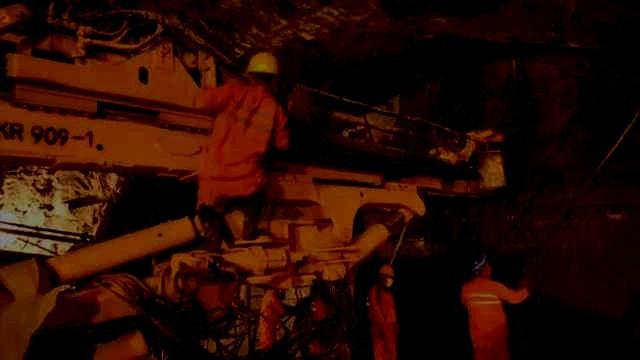helmet: (245, 52, 279, 85), (467, 253, 491, 278)
